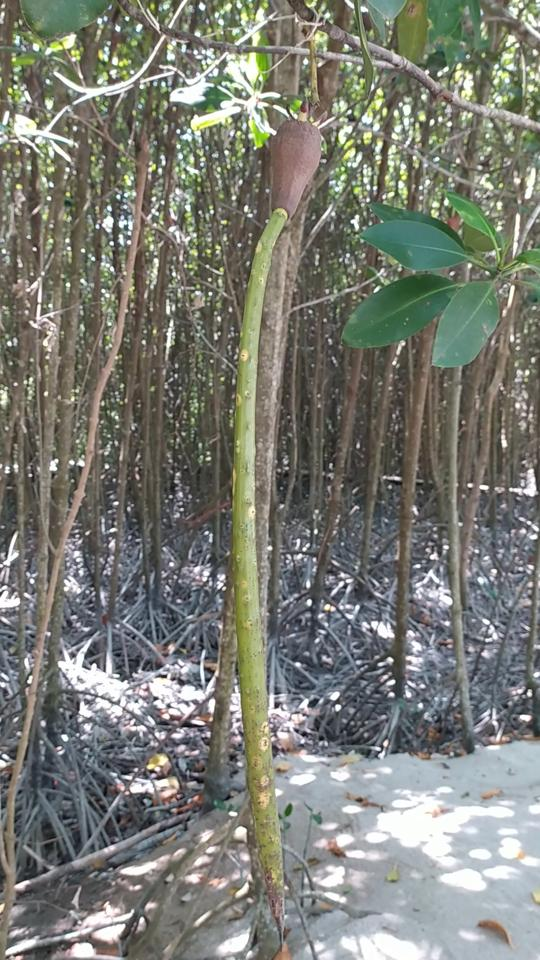setengah matang: (226, 93, 333, 958)
